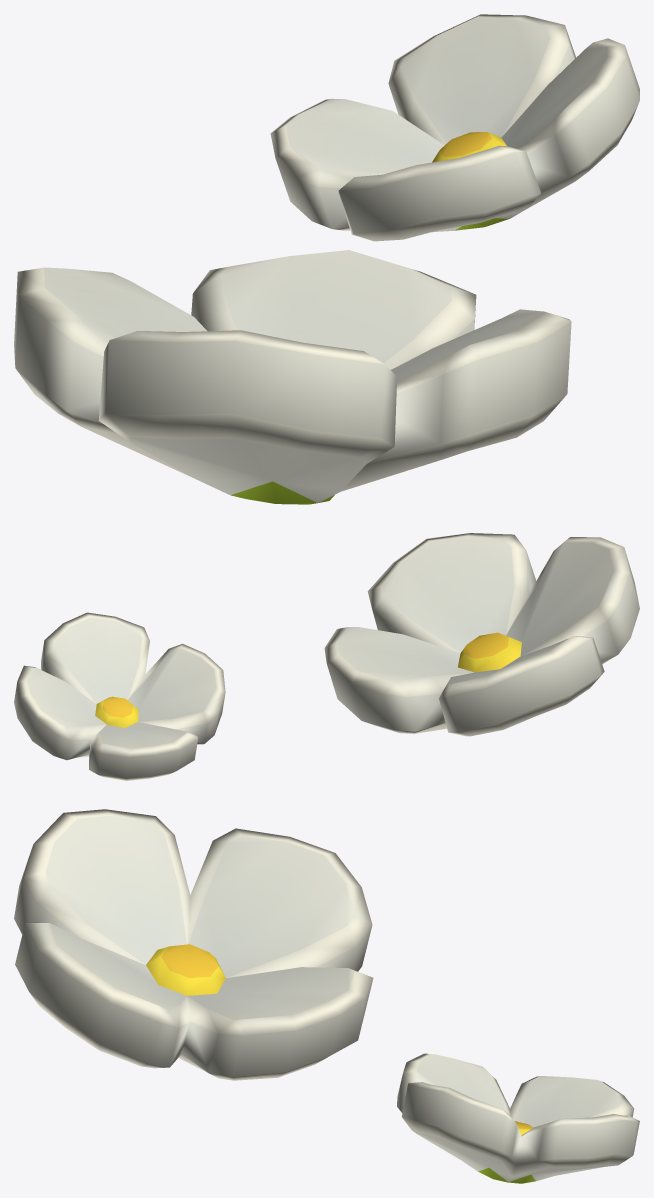
The model's file is flower_double_white_LOD_group.fbx.
The picture shows the model from 3 angles, top to bottom: view 1: azimuth 30°, elevation 25°; view 2: azimuth 150°, elevation 25°; view 3: azimuth 270°, elevation 25°; orthographic projection. The views are drawn at different scales.
Visible parts, largest first — view 1: flower_double_white_LOD0; view 2: flower_double_white_LOD0; view 3: flower_double_white_LOD0.
Boxes of the visible parts, <box> form: flower_double_white_LOD0: <box>14,14,639,504</box>; flower_double_white_LOD0: <box>14,533,639,780</box>; flower_double_white_LOD0: <box>14,809,639,1183</box>.
Size of what is drawn, in the model's own units: 76.15 by 24 by 76.28.
Materials: 1 (1 with a texture image).
